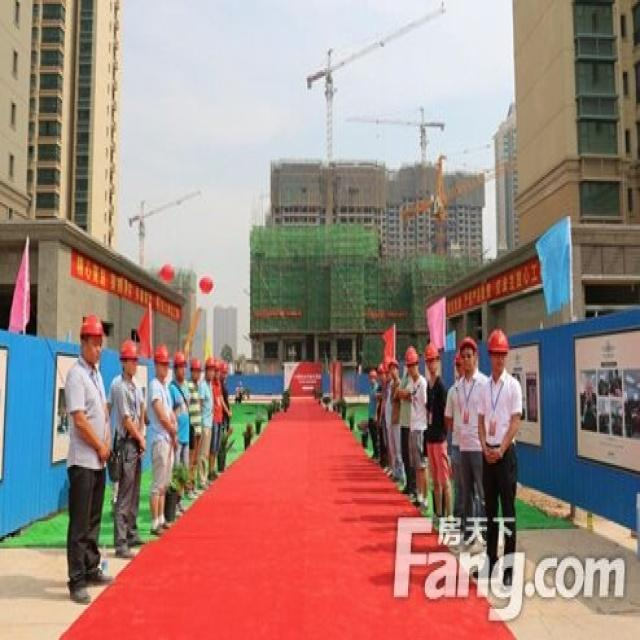helmet: (76, 417, 106, 488), (483, 433, 509, 504), (456, 444, 478, 501), (118, 449, 139, 507), (152, 460, 170, 512), (421, 455, 439, 504), (403, 457, 420, 507), (186, 471, 202, 512), (172, 463, 186, 509), (202, 476, 216, 515), (388, 476, 401, 512), (218, 476, 228, 509)
